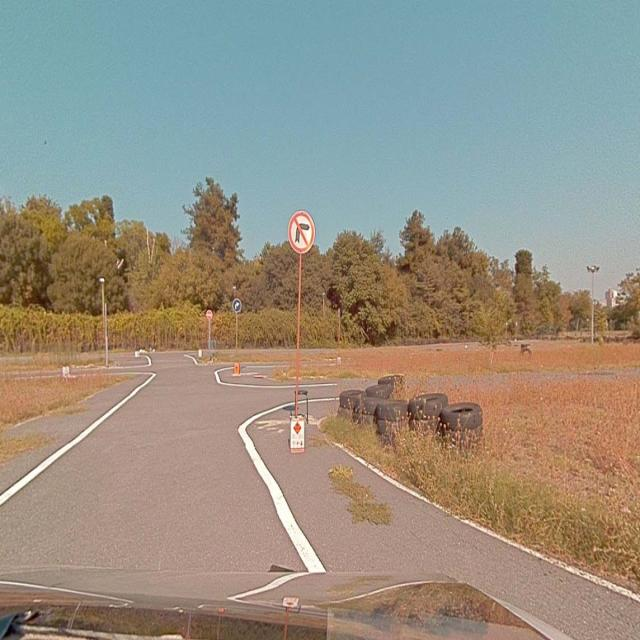girisyok: (206, 310, 212, 319)
sag: (233, 299, 241, 312)
sagadonulmez: (288, 212, 315, 254)
